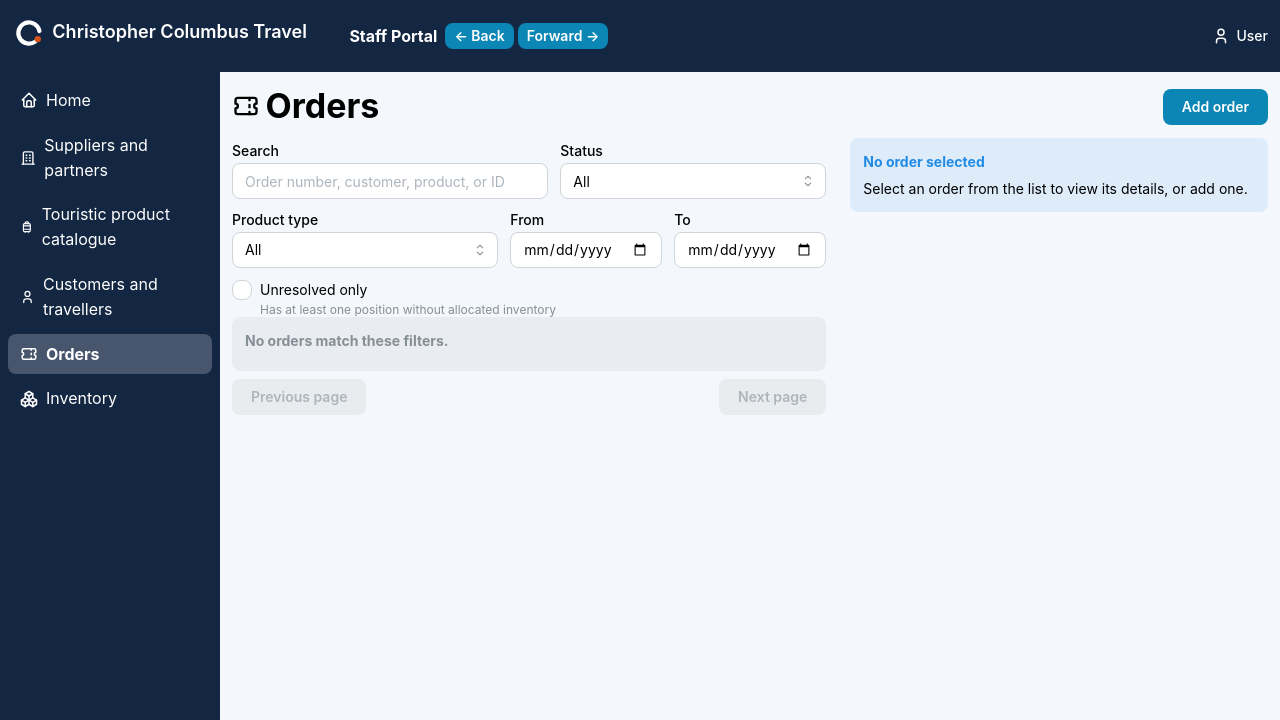
OrdersRoute › offers active as a status filter
Step 1. Click the field labelled "Status" → (693, 181), box [560,163,826,199]
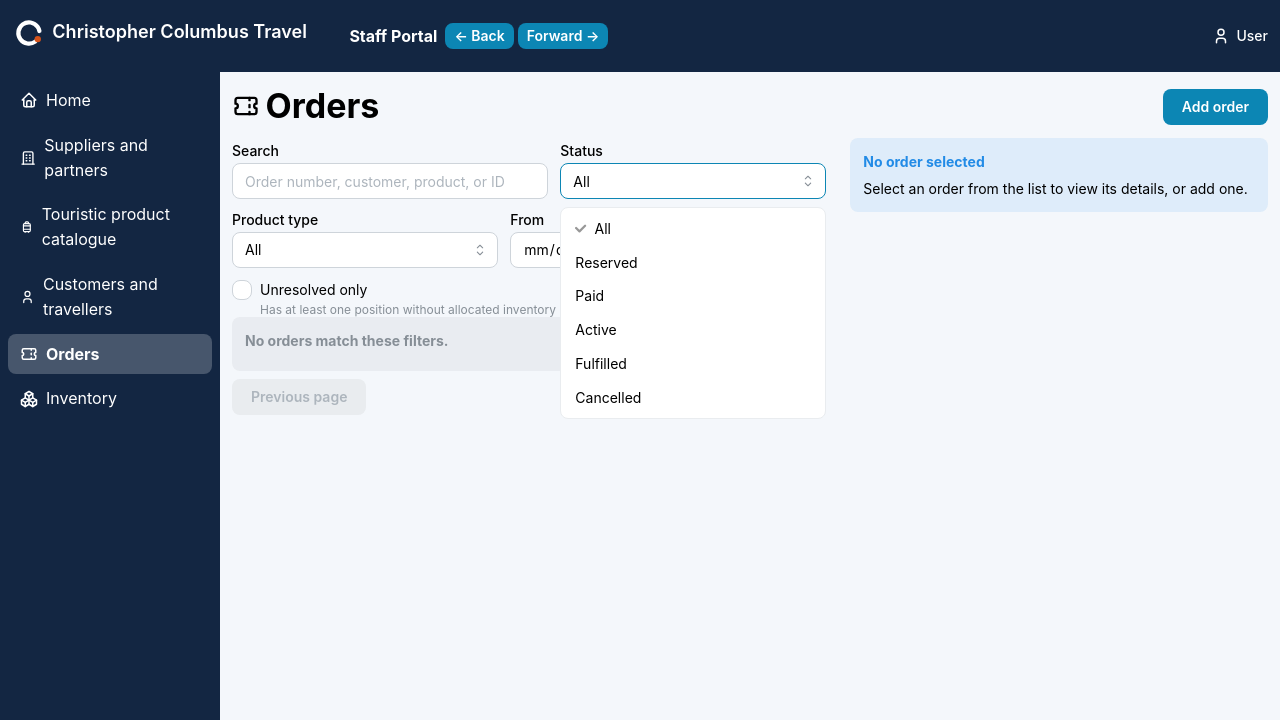
Expected: the option "Active" is shown, [575,321,617,338]
